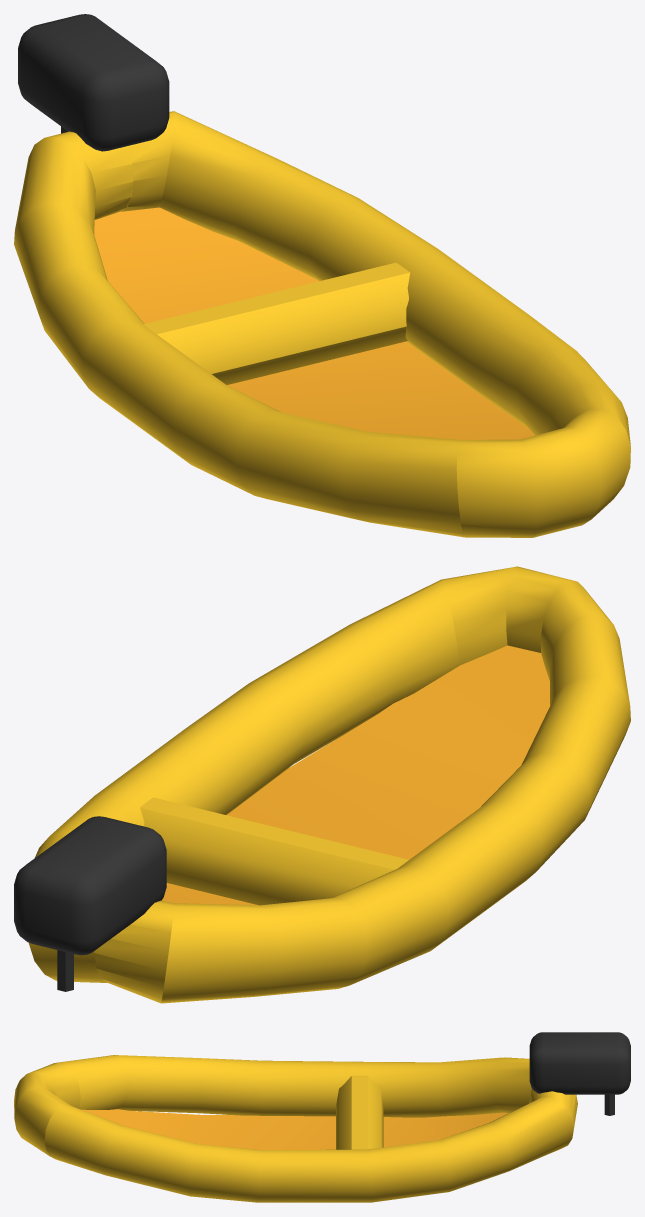
Rendered from boat1.fbx.
3 views of the same model, one above another, from view 1: azimuth 30°, elevation 25°; view 2: azimuth 150°, elevation 25°; view 3: azimuth 270°, elevation 25° (orthographic). The views are drawn at different scales.
Parts seen in each view (by area): view 1: boat; view 2: boat; view 3: boat.
Part boxes in pixels (left/top/right/bottom): boat: left=14, top=14, right=630, bottom=537; boat: left=14, top=566, right=630, bottom=1003; boat: left=14, top=1032, right=630, bottom=1202.
Bounding box in the file's own units: 109 × 55.29 × 261.
